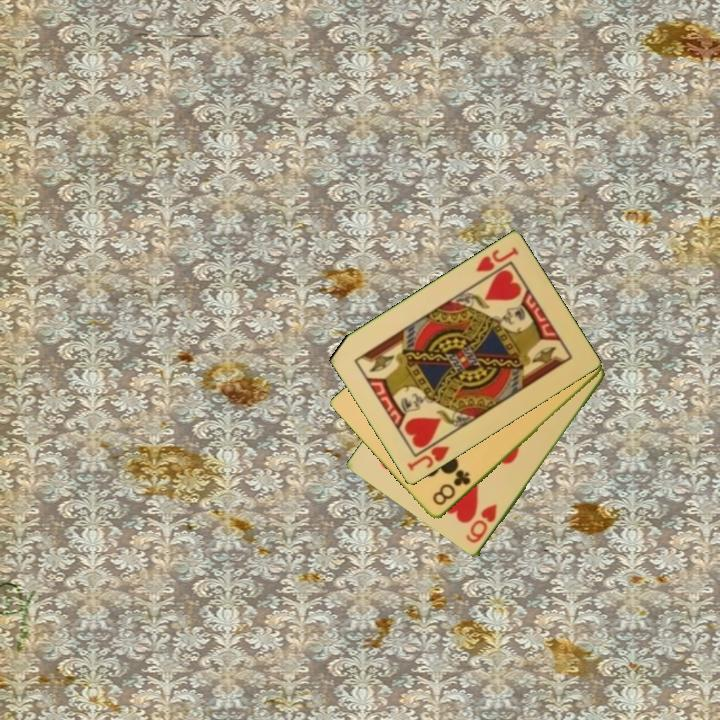6h: (462, 501, 500, 547)
8c: (429, 466, 474, 509)
Jh: (403, 433, 452, 474), (472, 244, 522, 275)
